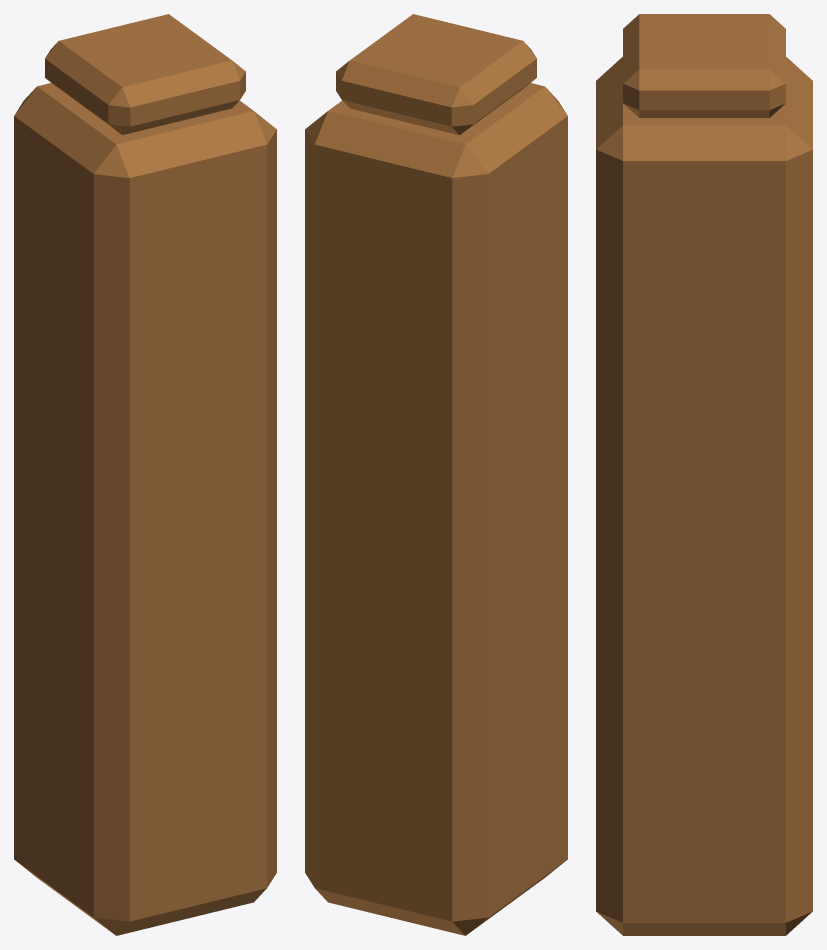
Rendered from low_wood_fence_post.glb.
The picture shows the model from 3 angles, left to right: view 1: azimuth 30°, elevation 25°; view 2: azimuth 150°, elevation 25°; view 3: azimuth 270°, elevation 25°; orthographic projection. The views are drawn at different scales.
Visible parts, largest first — view 1: low_wood_fence_post; view 2: low_wood_fence_post; view 3: low_wood_fence_post.
Boxes of the visible parts, left/top/right/bottom form: low_wood_fence_post: left=14, top=14, right=276, bottom=935; low_wood_fence_post: left=305, top=14, right=567, bottom=935; low_wood_fence_post: left=596, top=14, right=812, bottom=935.
Size of the model in its own units: 0.16 by 0.7 by 0.16.
